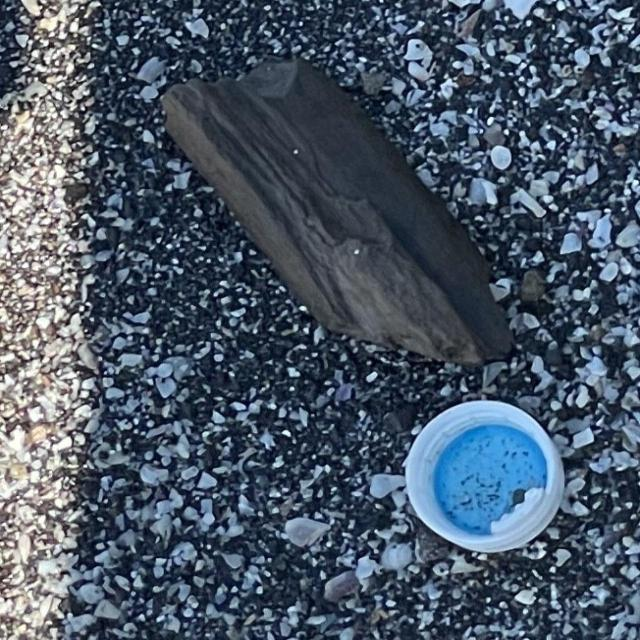plastic_waste: (403, 397, 565, 553)
wood_waste: (158, 54, 516, 368)
